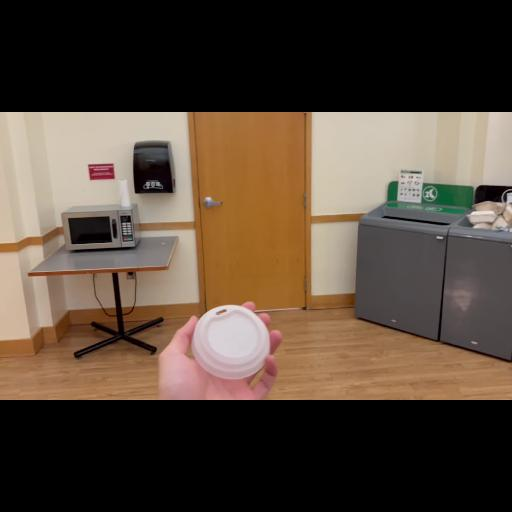lp_cup_lids: (183, 304, 275, 382)
